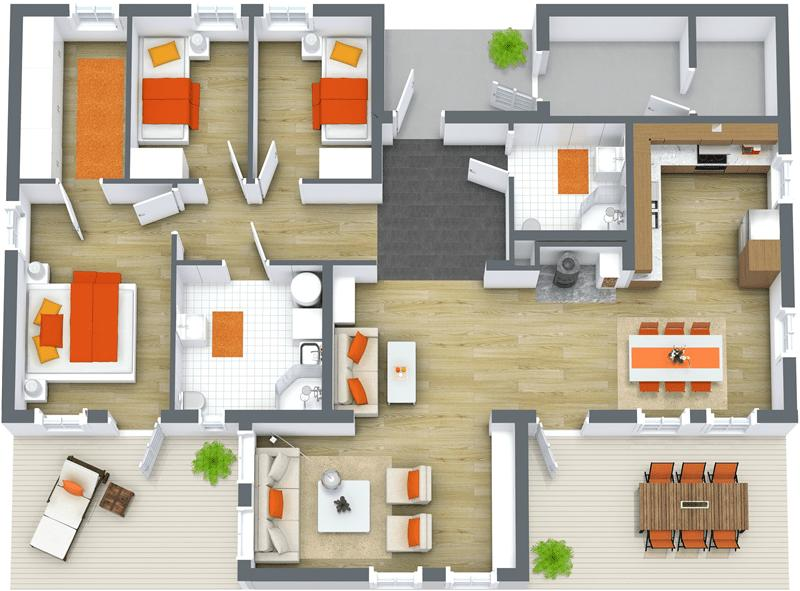room: (630, 117, 789, 415), (329, 263, 624, 414), (245, 416, 518, 573), (15, 180, 172, 418), (539, 9, 783, 117), (178, 263, 325, 416), (254, 8, 378, 182), (132, 8, 252, 179), (16, 9, 130, 180), (512, 114, 631, 234)
